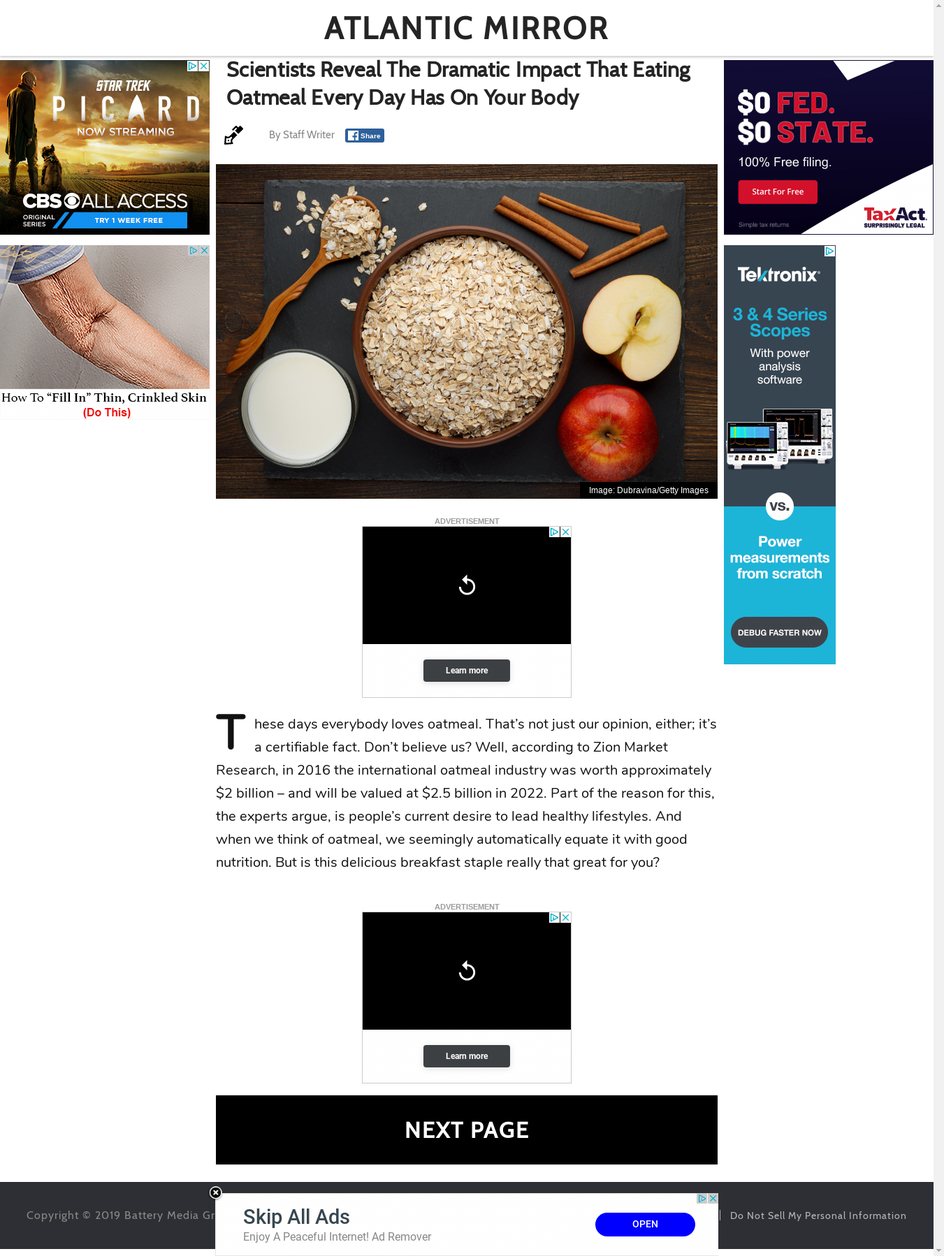fake_button: (412, 1036, 540, 1090), (587, 1205, 711, 1256), (407, 651, 521, 697)
